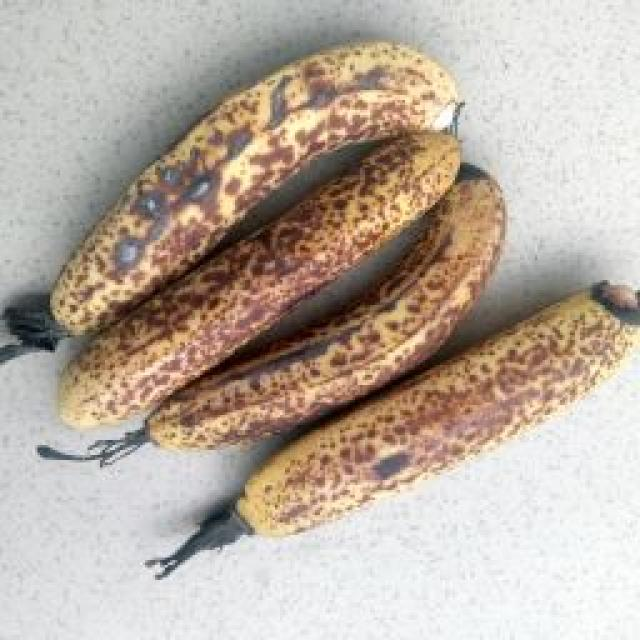banana: (9, 149, 510, 549)
